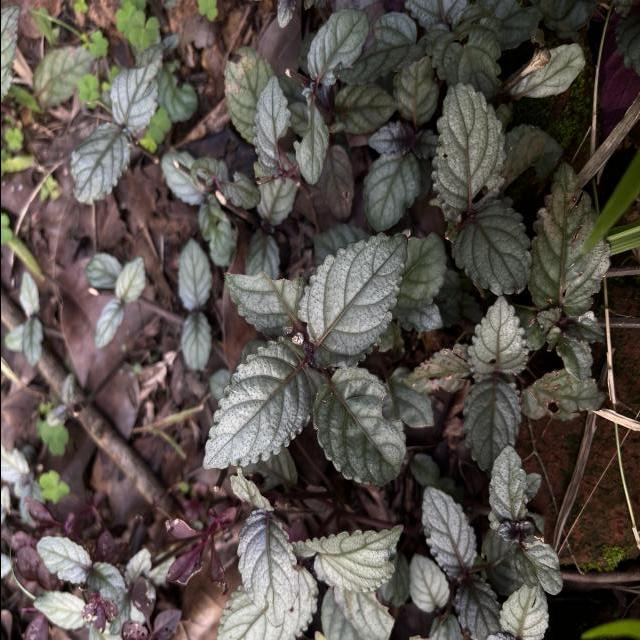Hemigraphis colorata: (294, 231, 410, 373), (200, 333, 312, 471), (524, 160, 612, 319), (308, 364, 406, 489), (428, 80, 508, 222), (285, 524, 404, 596), (448, 198, 534, 296), (233, 508, 300, 630), (416, 484, 478, 584), (465, 294, 529, 383), (306, 6, 370, 87), (250, 74, 292, 178), (486, 442, 528, 524)
